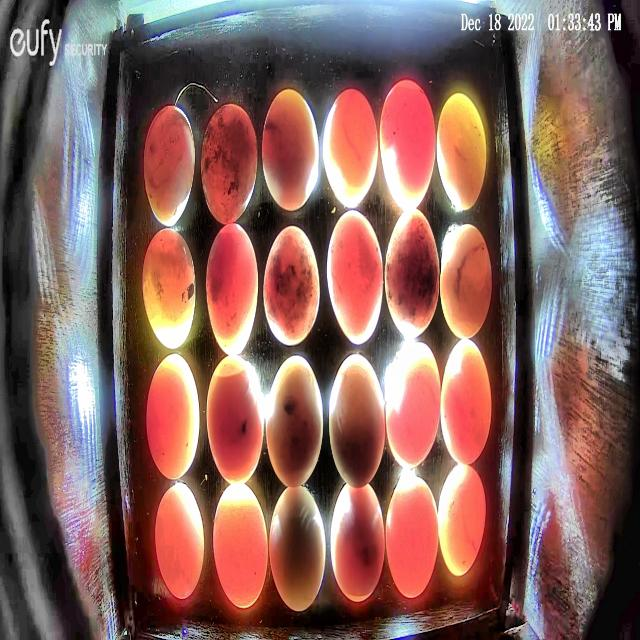DE: (328, 352, 386, 491), (326, 209, 384, 344), (266, 354, 323, 490), (206, 355, 264, 484), (379, 79, 436, 209), (268, 485, 326, 612), (212, 481, 269, 609), (205, 222, 259, 356), (200, 105, 258, 228), (384, 206, 438, 338), (384, 342, 440, 467), (262, 88, 318, 212), (141, 227, 197, 350), (145, 354, 200, 479), (262, 226, 319, 346), (330, 482, 386, 602), (323, 89, 379, 207), (386, 479, 440, 600), (440, 340, 491, 466), (143, 104, 195, 226), (440, 225, 492, 339), (436, 93, 486, 211), (156, 482, 204, 600), (438, 464, 486, 576)
